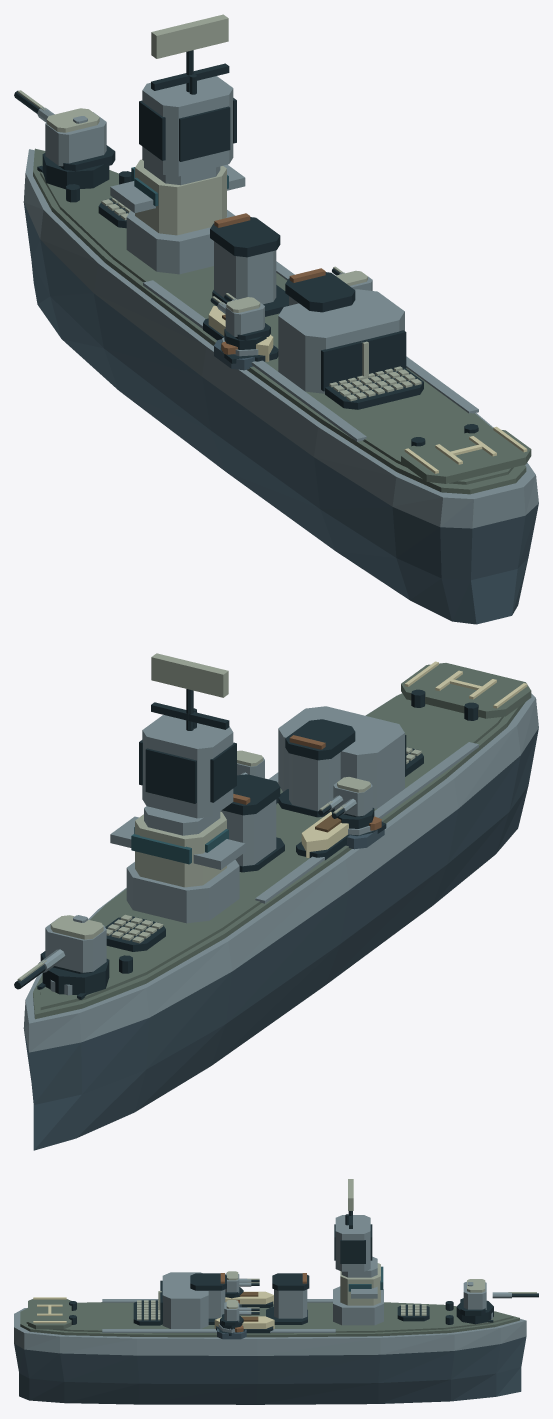
Rendered from historic-arleigh-burke.glb.
3 renders of one model, top to bottom at view 1: azimuth 30°, elevation 25°; view 2: azimuth 150°, elevation 25°; view 3: azimuth 270°, elevation 25°, orthographic. The views are drawn at different scales.
Visible parts, largest first — view 1: historic-arleigh-burke-historic-arleigh-burke-geometry, historic-arleigh-burke-part_bridge.143-geometry, historic-arleigh-burke-historic_funnel_0.136-geometry, historic-arleigh-burke-turret_main_0.112-geometry, historic-arleigh-burke-naval_launcher_1.013-geometry, historic-arleigh-burke-historic_funnel_1.081-geometry, historic-arleigh-burke-turret_aa_aa-port.145-geometry; view 2: historic-arleigh-burke-historic-arleigh-burke-geometry, historic-arleigh-burke-part_bridge.143-geometry, historic-arleigh-burke-turret_main_0.112-geometry, historic-arleigh-burke-historic_funnel_1.081-geometry, historic-arleigh-burke-historic_funnel_0.136-geometry, historic-arleigh-burke-turret_aa_aa-port.145-geometry, historic-arleigh-burke-naval_launcher_0.018-geometry, historic-arleigh-burke-turret_aa_aa-starboard.141-geometry, historic-arleigh-burke-part_aa-port.147-geometry; view 3: historic-arleigh-burke-historic-arleigh-burke-geometry, historic-arleigh-burke-part_bridge.143-geometry, historic-arleigh-burke-historic_funnel_0.136-geometry, historic-arleigh-burke-turret_main_0.112-geometry, historic-arleigh-burke-historic_funnel_1.081-geometry, historic-arleigh-burke-turret_aa_aa-starboard.141-geometry, historic-arleigh-burke-naval_launcher_1.013-geometry, historic-arleigh-burke-turret_aa_aa-port.145-geometry, historic-arleigh-burke-naval_launcher_0.018-geometry, historic-arleigh-burke-part_aa-starboard.143-geometry.
Part boxes in pixels (x1,y1,x2,y2): historic-arleigh-burke-historic-arleigh-burke-geometry: (23, 148, 538, 624); historic-arleigh-burke-part_bridge.143-geometry: (110, 14, 245, 274); historic-arleigh-burke-historic_funnel_0.136-geometry: (210, 213, 288, 316); historic-arleigh-burke-turret_main_0.112-geometry: (14, 90, 115, 189); historic-arleigh-burke-naval_launcher_1.013-geometry: (325, 366, 423, 409); historic-arleigh-burke-historic_funnel_1.081-geometry: (285, 268, 355, 312); historic-arleigh-burke-turret_aa_aa-port.145-geometry: (210, 293, 270, 349); historic-arleigh-burke-historic-arleigh-burke-geometry: (23, 661, 538, 1150); historic-arleigh-burke-part_bridge.143-geometry: (110, 653, 245, 923); historic-arleigh-burke-turret_main_0.112-geometry: (14, 915, 109, 995); historic-arleigh-burke-historic_funnel_1.081-geometry: (278, 719, 355, 817); historic-arleigh-burke-historic_funnel_0.136-geometry: (220, 774, 284, 872); historic-arleigh-burke-turret_aa_aa-port.145-geometry: (318, 777, 374, 828); historic-arleigh-burke-naval_launcher_0.018-geometry: (105, 914, 165, 951); historic-arleigh-burke-turret_aa_aa-starboard.141-geometry: (237, 750, 264, 778); historic-arleigh-burke-part_aa-port.147-geometry: (346, 820, 384, 849); historic-arleigh-burke-historic-arleigh-burke-geometry: (14, 1272, 526, 1404); historic-arleigh-burke-part_bridge.143-geometry: (333, 1179, 383, 1325); historic-arleigh-burke-historic_funnel_0.136-geometry: (266, 1273, 309, 1324); historic-arleigh-burke-turret_main_0.112-geometry: (456, 1279, 538, 1324); historic-arleigh-burke-historic_funnel_1.081-geometry: (190, 1273, 226, 1324); historic-arleigh-burke-turret_aa_aa-starboard.141-geometry: (220, 1300, 259, 1329); historic-arleigh-burke-naval_launcher_1.013-geometry: (133, 1300, 162, 1325); historic-arleigh-burke-turret_aa_aa-port.145-geometry: (225, 1271, 259, 1298); historic-arleigh-burke-naval_launcher_0.018-geometry: (397, 1304, 429, 1321); historic-arleigh-burke-part_aa-starboard.143-geometry: (217, 1324, 246, 1339).
Size of the model in its own units: 0.7871 by 1.8 by 4.21.
